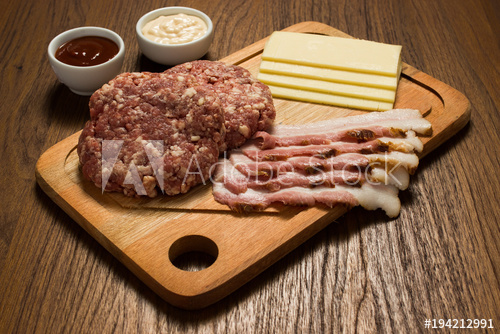ground_beef: (92, 60, 253, 184)
